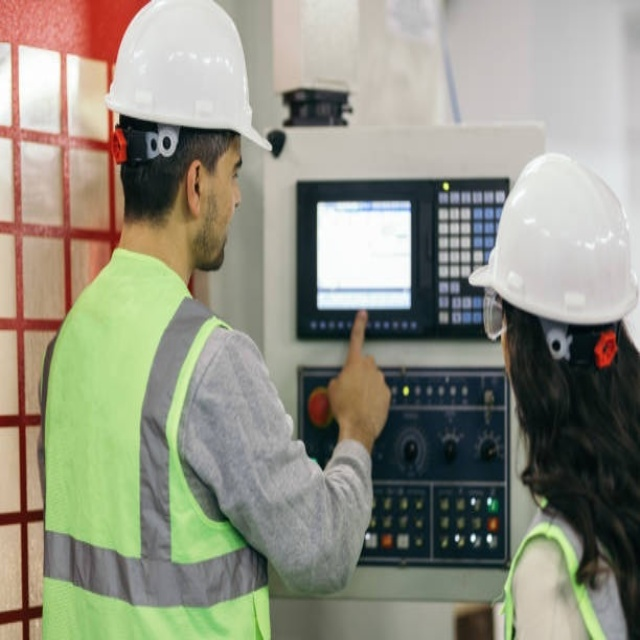Gafas: (480, 287, 510, 340)
Sin_gafas: (208, 151, 246, 185)
Sin_guantes: (326, 310, 392, 442)
Sin_mascara: (196, 201, 242, 267)
